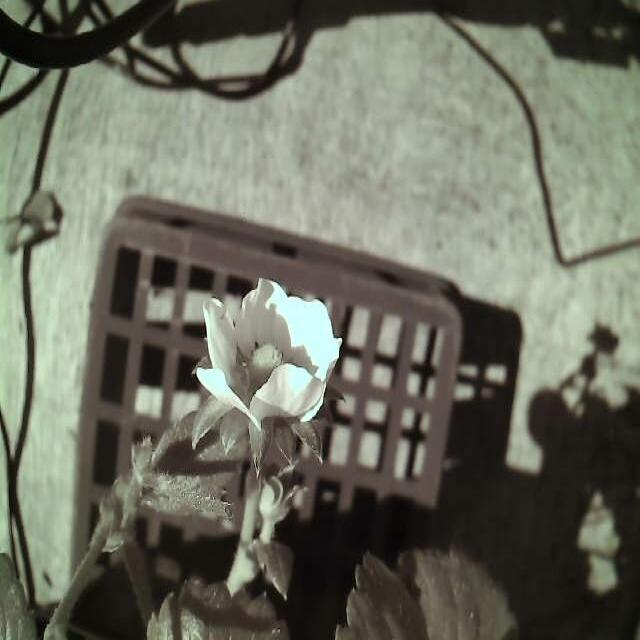flower: (195, 278, 348, 434)
